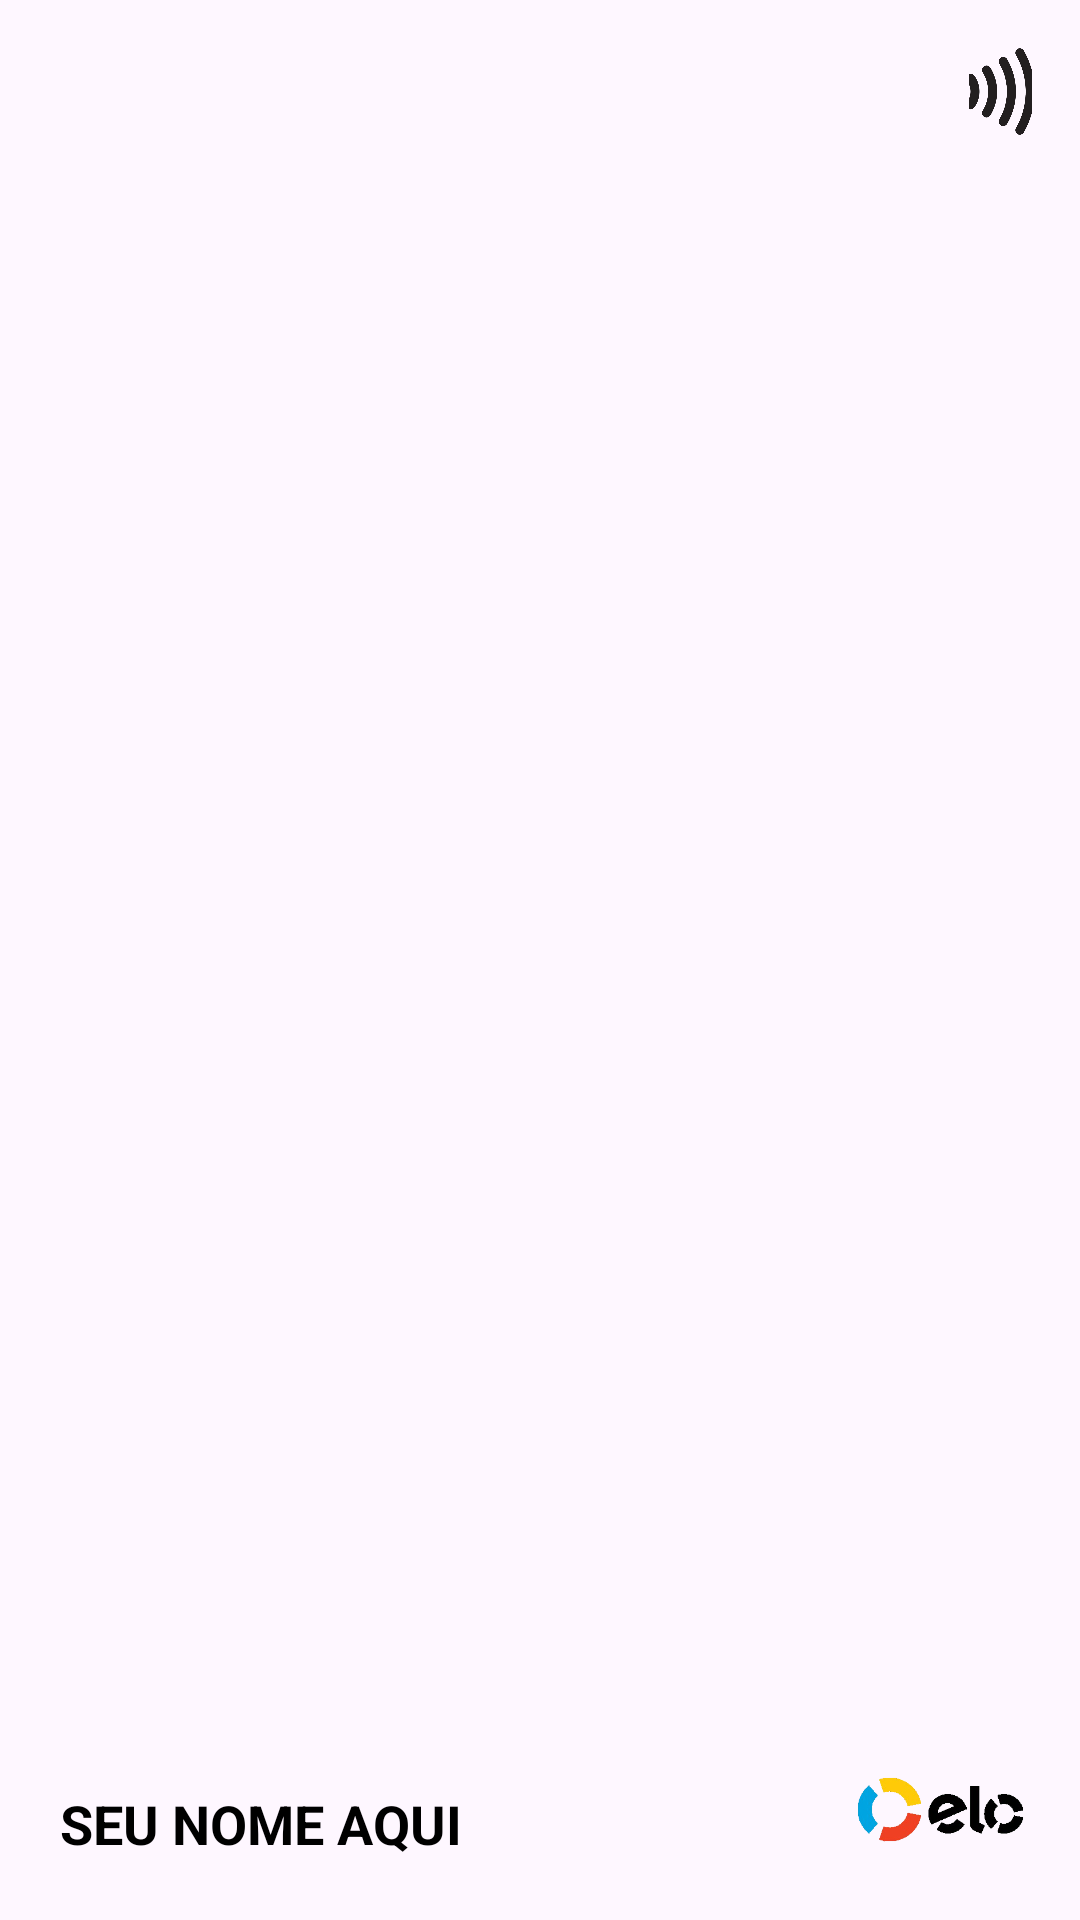

Icon bounding boxes for this 1080 x 1920 phone screenshot, format (x1, y1, x2, y2):
aproximacao: (969, 48, 1032, 135)
